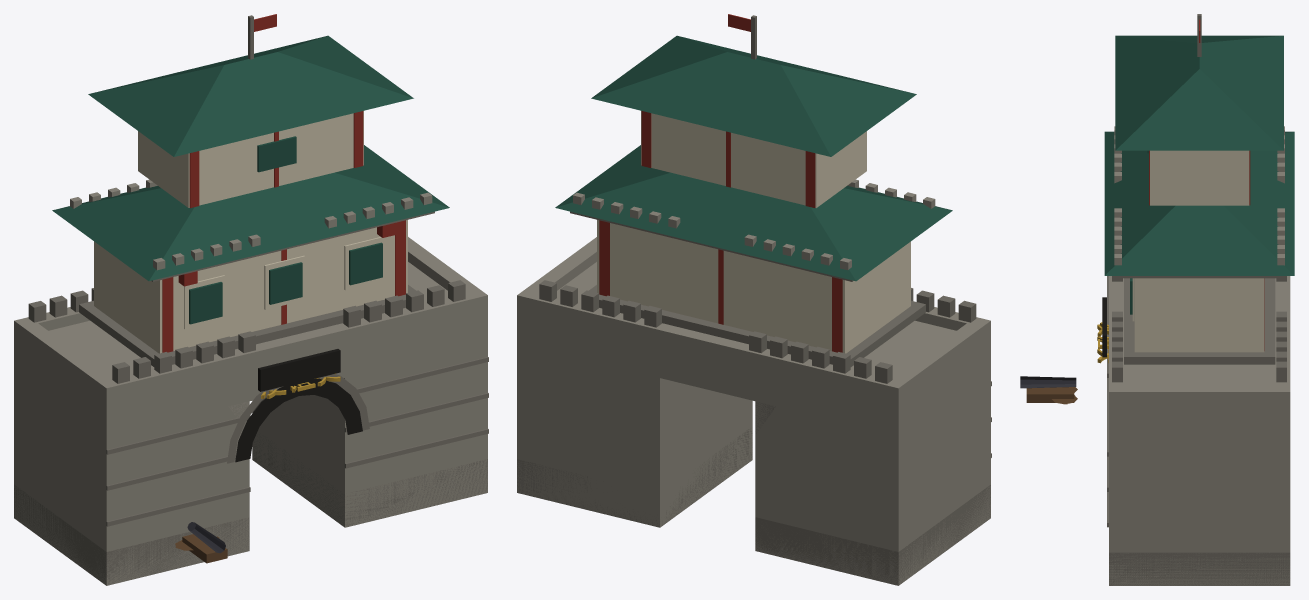
File: pass-v2-gate.glb
3 views of the same model, side by side, from view 1: azimuth 30°, elevation 25°; view 2: azimuth 150°, elevation 25°; view 3: azimuth 270°, elevation 25° (orthographic).
Parts seen in each view (by area): view 1: V2Gate; view 2: V2Gate; view 3: V2Gate.
Boxes of the visible parts, x1=… form: V2Gate: x1=14, y1=14, x2=488, y2=585; V2Gate: x1=517, y1=14, x2=991, y2=585; V2Gate: x1=1020, y1=14, x2=1294, y2=585.
Size of the model in its own units: 20 by 24.5 by 12.7.
